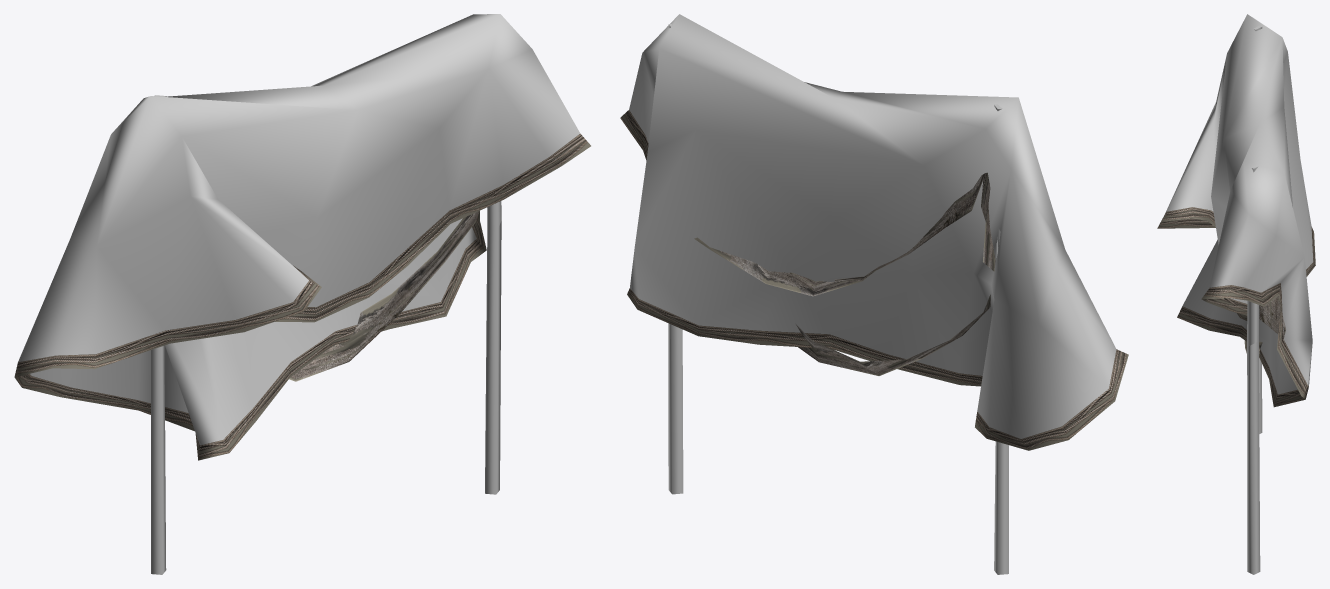
Rendered from Fishnet2_LOD1.fbx.
The picture shows the model from 3 angles, left to right: view 1: azimuth 30°, elevation 25°; view 2: azimuth 150°, elevation 25°; view 3: azimuth 270°, elevation 25°; orthographic projection. The views are drawn at different scales.
Visible parts, largest first — view 1: polySurface1190; view 2: polySurface1190; view 3: polySurface1190.
Boxes of the visible parts, <box> form: polySurface1190: <box>14,14,590,574</box>; polySurface1190: <box>620,14,1128,574</box>; polySurface1190: <box>1157,14,1315,574</box>.
Bounding box in the file's own units: 7.68 × 6.66 × 2.32.
